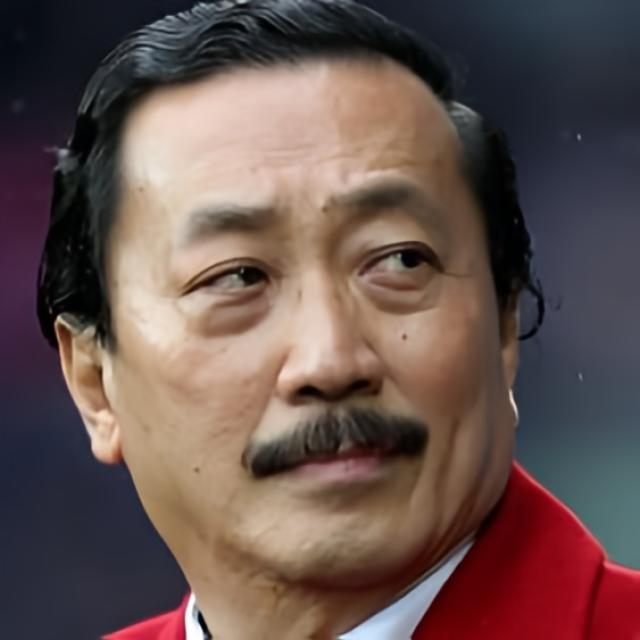content: (110, 47, 504, 584)
